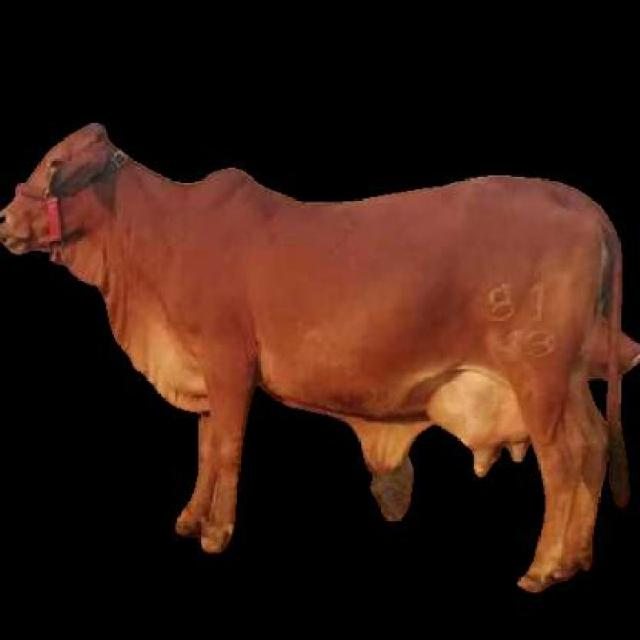Cow: (0, 113, 638, 598)
